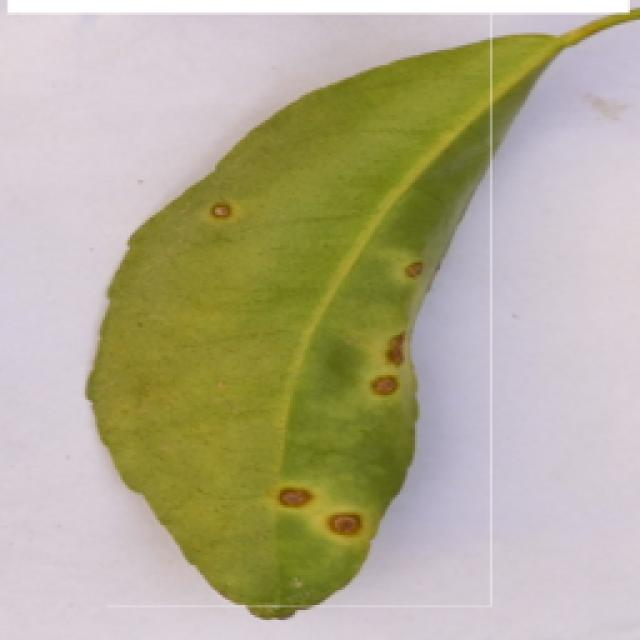canker: (79, 14, 629, 608)
